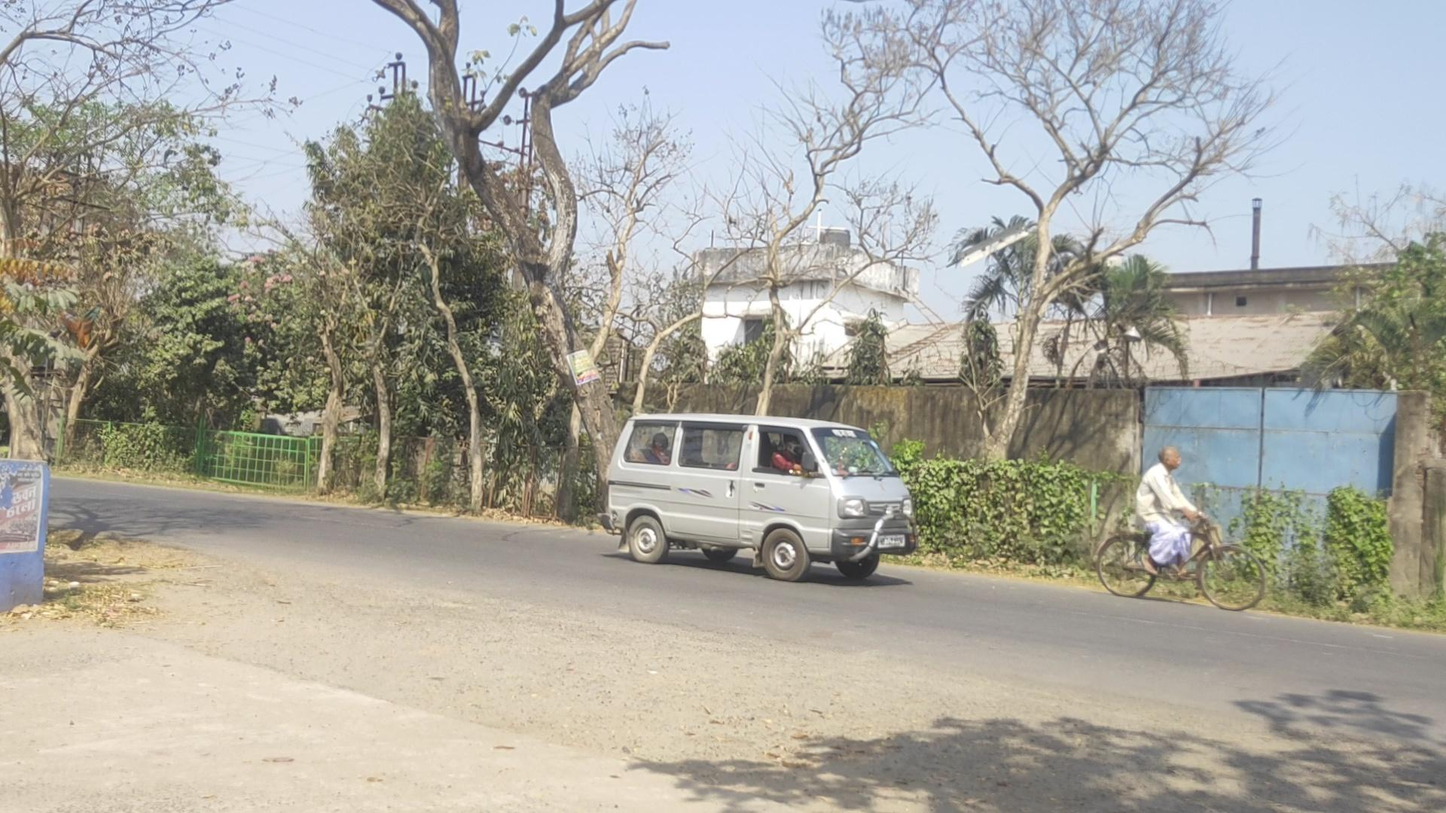bike: (1096, 445, 1267, 612)
van: (597, 411, 920, 582)
